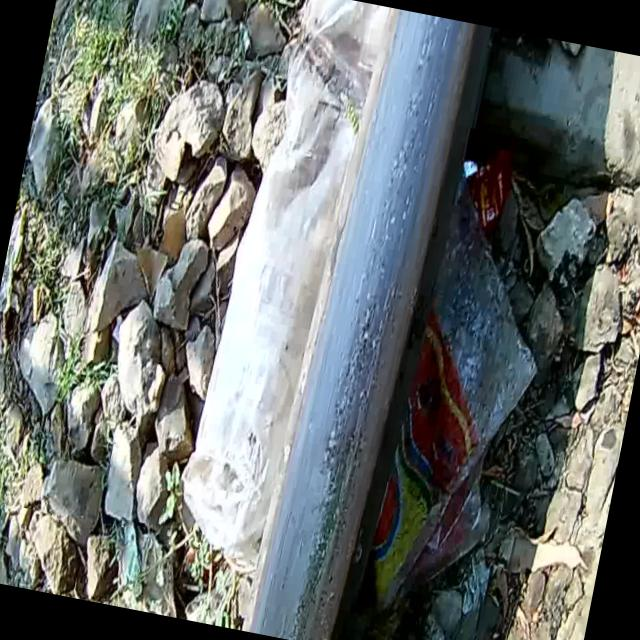Flakings: (283, 10, 461, 640)
